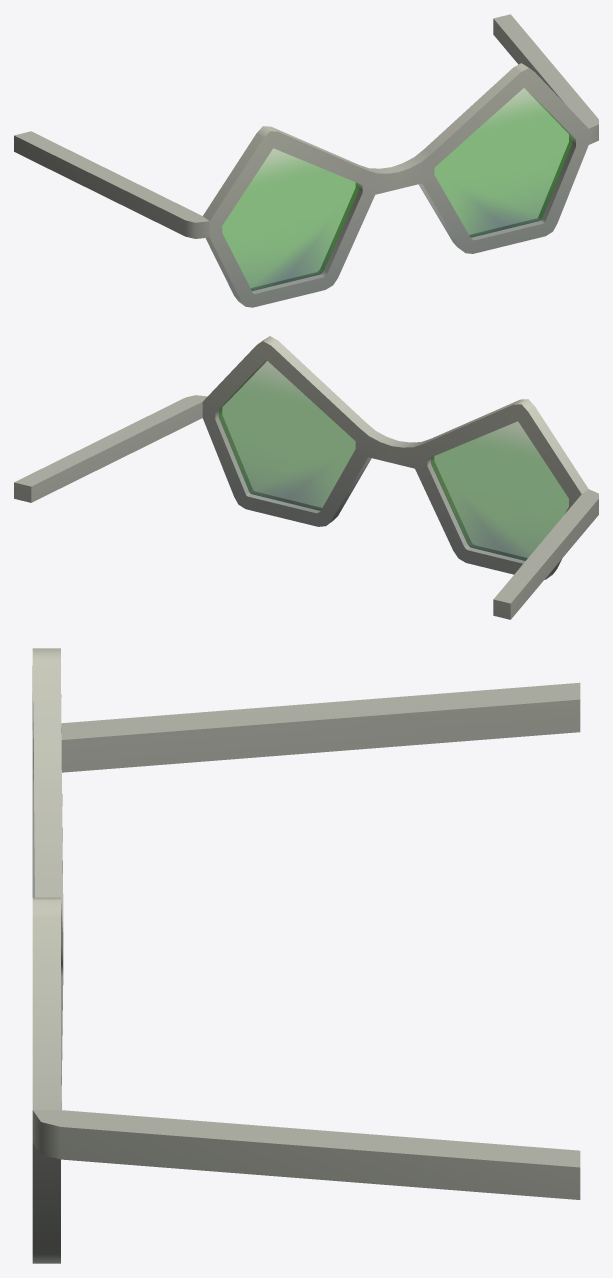
Rendered from Glasses_Green_Five.gltf.
3 renders of one model, top to bottom at view 1: azimuth 30°, elevation 25°; view 2: azimuth 150°, elevation 25°; view 3: azimuth 270°, elevation 25°, orthographic. The views are drawn at different scales.
Visible parts, largest first — view 1: Glasses_Green_Five; view 2: Glasses_Green_Five; view 3: Glasses_Green_Five.
Part boxes in pixels (bbox=[...]): Glasses_Green_Five: bbox=[14, 14, 598, 307]; Glasses_Green_Five: bbox=[14, 336, 598, 619]; Glasses_Green_Five: bbox=[32, 648, 580, 1263].
Bounding box in the file's own units: 0.9456 × 0.3134 × 0.4514.
2 materials, 2 textured.
